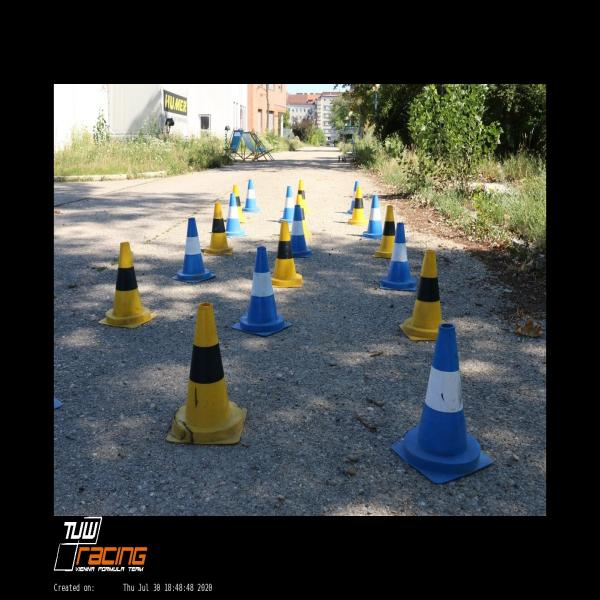blue_cone: (392, 323, 493, 485), (232, 246, 292, 336), (172, 218, 216, 283), (380, 223, 417, 291), (286, 204, 314, 258), (361, 194, 384, 239), (223, 192, 246, 236), (279, 186, 296, 223), (242, 179, 260, 212), (347, 181, 359, 214)
yellow_cone: (165, 301, 248, 445), (98, 242, 157, 329), (399, 249, 452, 341), (269, 220, 303, 288), (202, 202, 232, 256), (372, 204, 398, 258), (290, 194, 312, 238), (346, 185, 369, 224), (225, 184, 246, 222), (294, 179, 309, 214)
